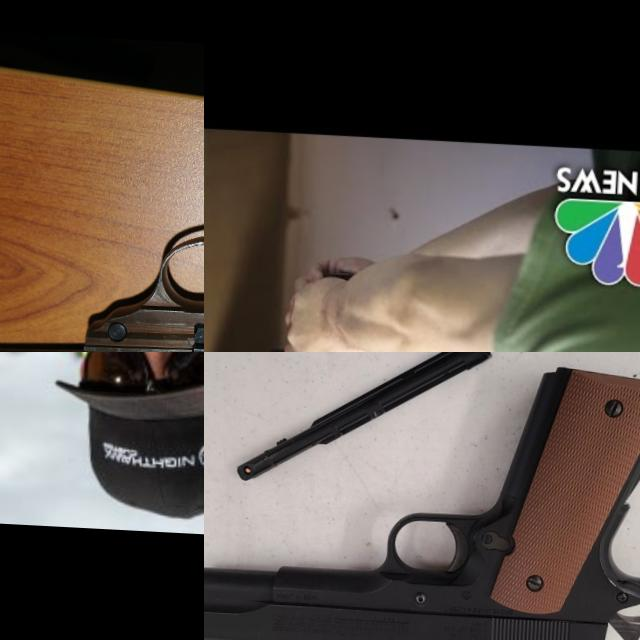handgun: (204, 352, 640, 640), (0, 52, 204, 352), (0, 352, 106, 469)
